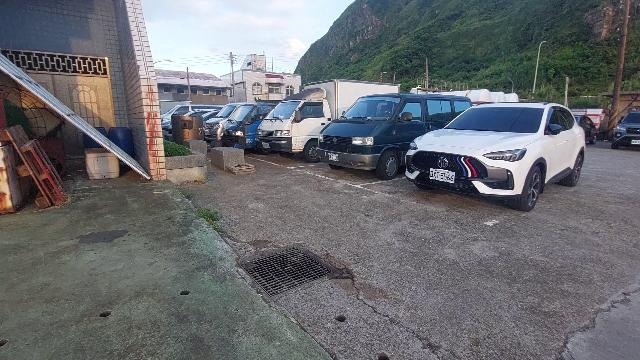pollute: (1, 69, 75, 214), (85, 147, 122, 179), (109, 127, 135, 160)
